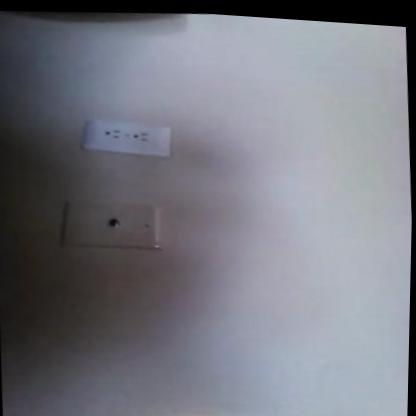OUTLET: (80, 113, 172, 162)
